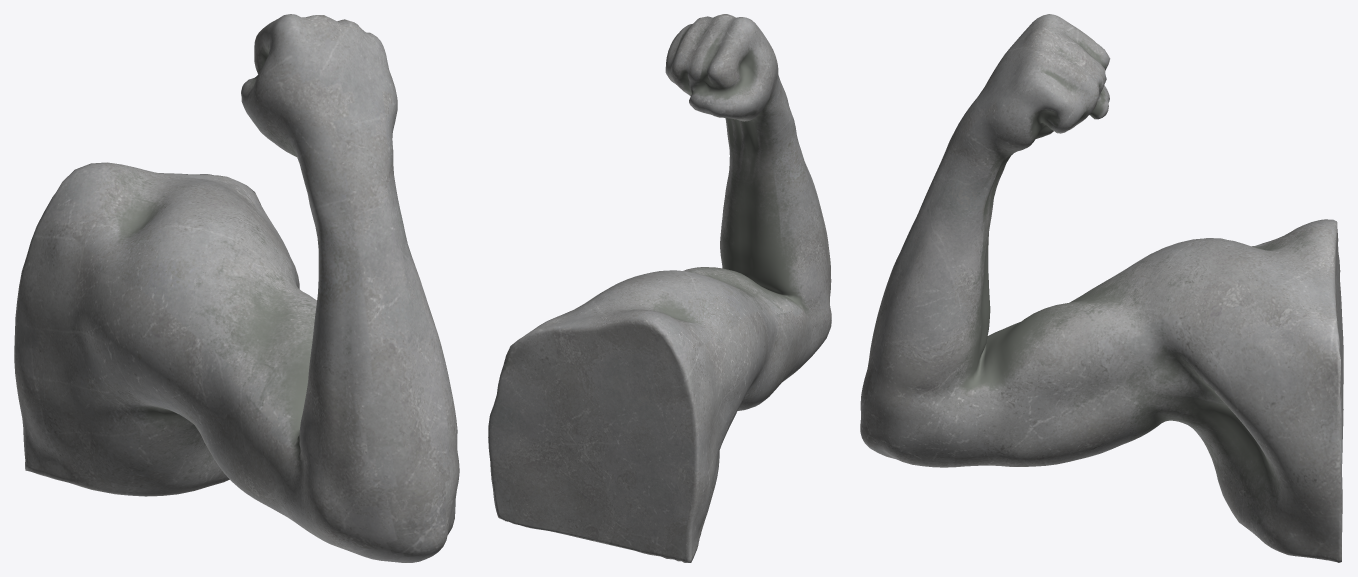
Rendered from arm.glb.
The picture shows the model from 3 angles, left to right: view 1: azimuth 30°, elevation 25°; view 2: azimuth 150°, elevation 25°; view 3: azimuth 270°, elevation 25°; orthographic projection. The views are drawn at different scales.
Visible parts, largest first — view 1: arm_low:ZBrush_defualt_group; view 2: arm_low:ZBrush_defualt_group; view 3: arm_low:ZBrush_defualt_group.
Part boxes in pixels (box(x1,y1,x2,y2)): arm_low:ZBrush_defualt_group: box(14, 14, 459, 562); arm_low:ZBrush_defualt_group: box(488, 14, 831, 562); arm_low:ZBrush_defualt_group: box(860, 14, 1343, 562).
Bounding box in the file's own units: 0.9446 × 1.85 × 1.66.
Materials: 1 (1 with a texture image).
